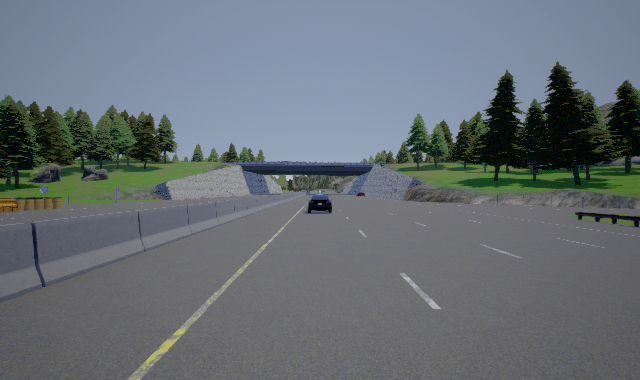vehicle: (308, 192, 333, 213)
